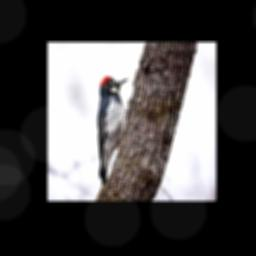Woodpecker: (98, 76, 129, 186)
